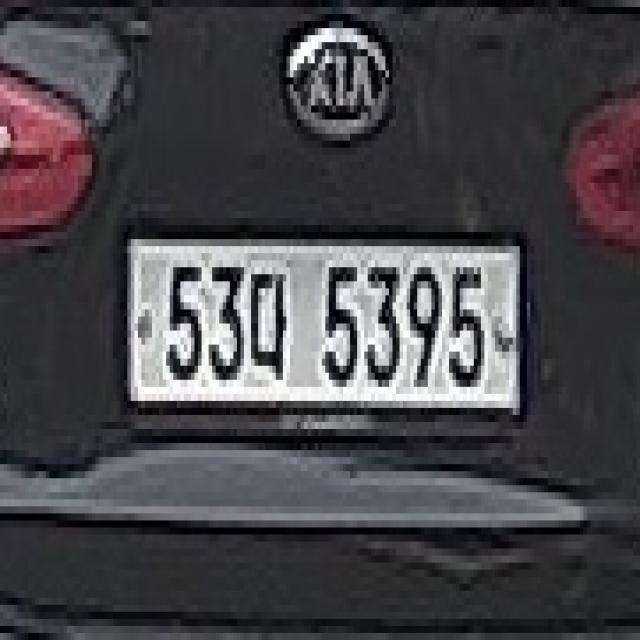3: (361, 253, 406, 401), (208, 253, 248, 387)
5: (318, 246, 361, 401), (156, 260, 208, 380), (449, 260, 495, 394)
9: (400, 253, 449, 387)
da: (247, 260, 290, 387)
license_plate: (117, 232, 538, 436)
